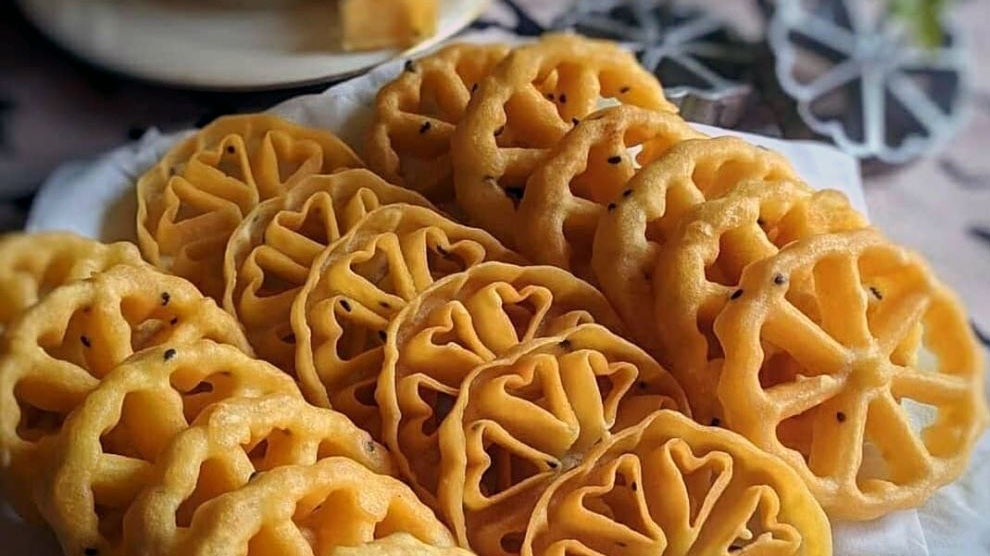kembang_goyang: (714, 219, 982, 516)
